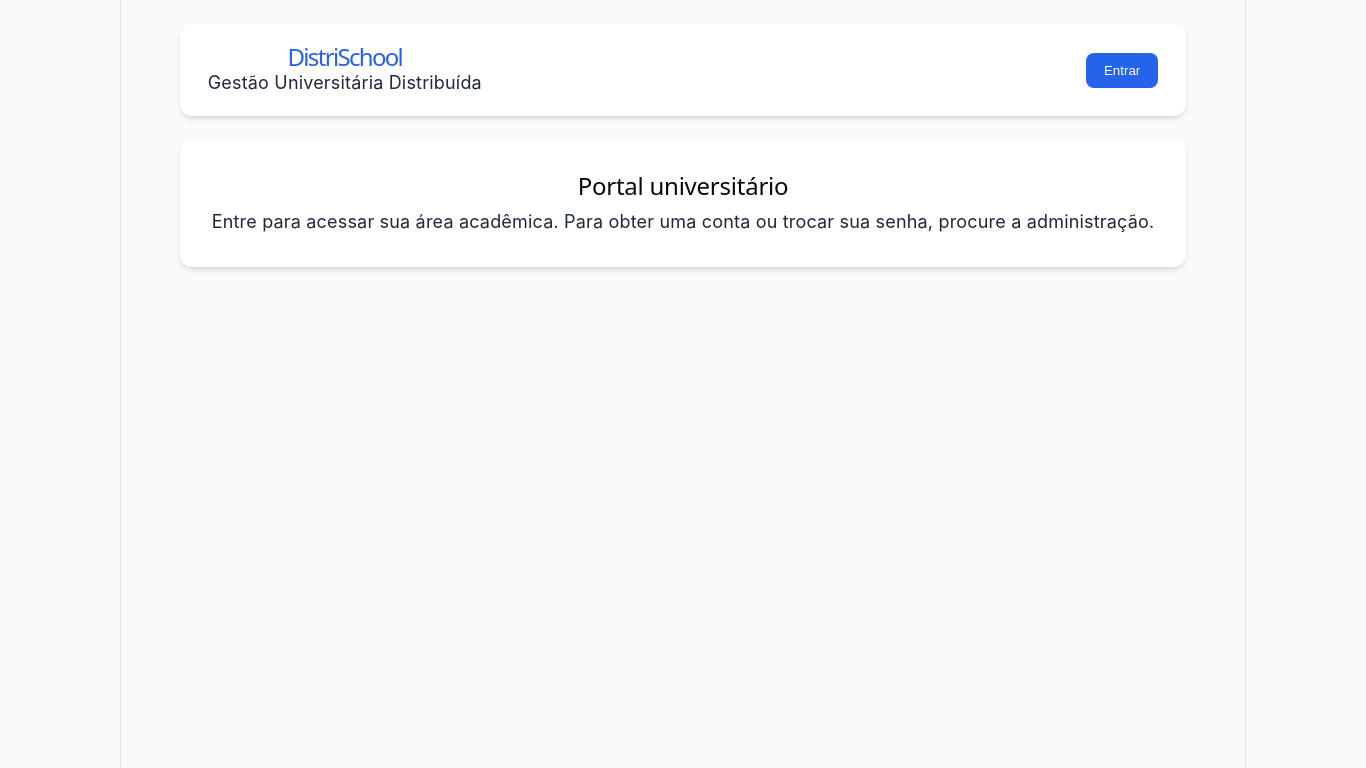
Test: Autenticação global › faz login, persiste a sessão e restaura ao remontar
Later steps or results of the test are not shown.
Click the button "Entrar" at (1122, 70), box top-left (1086, 53), bottom-right (1158, 88)
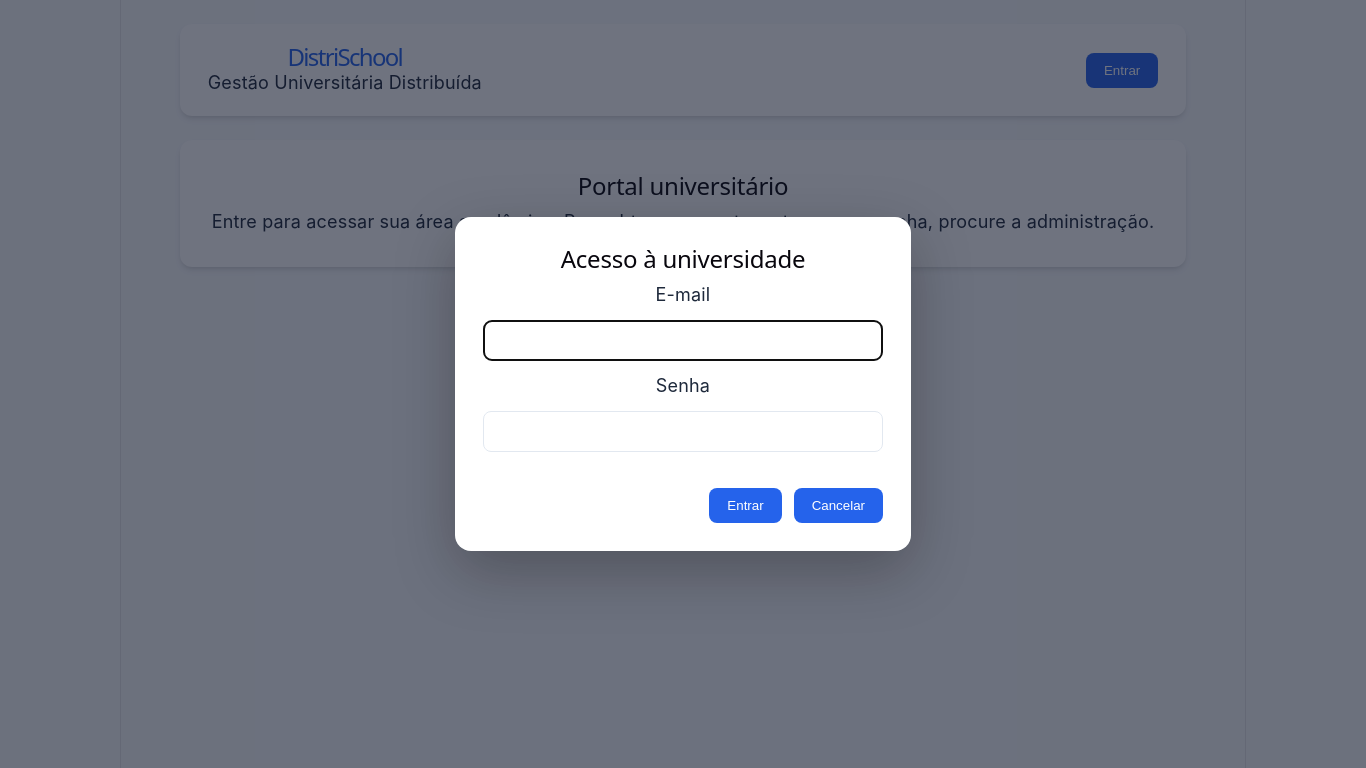
Type "ana@universidade.edu" into the field labelled "E-mail" at (683, 340), box top-left (483, 320), bottom-right (883, 361)
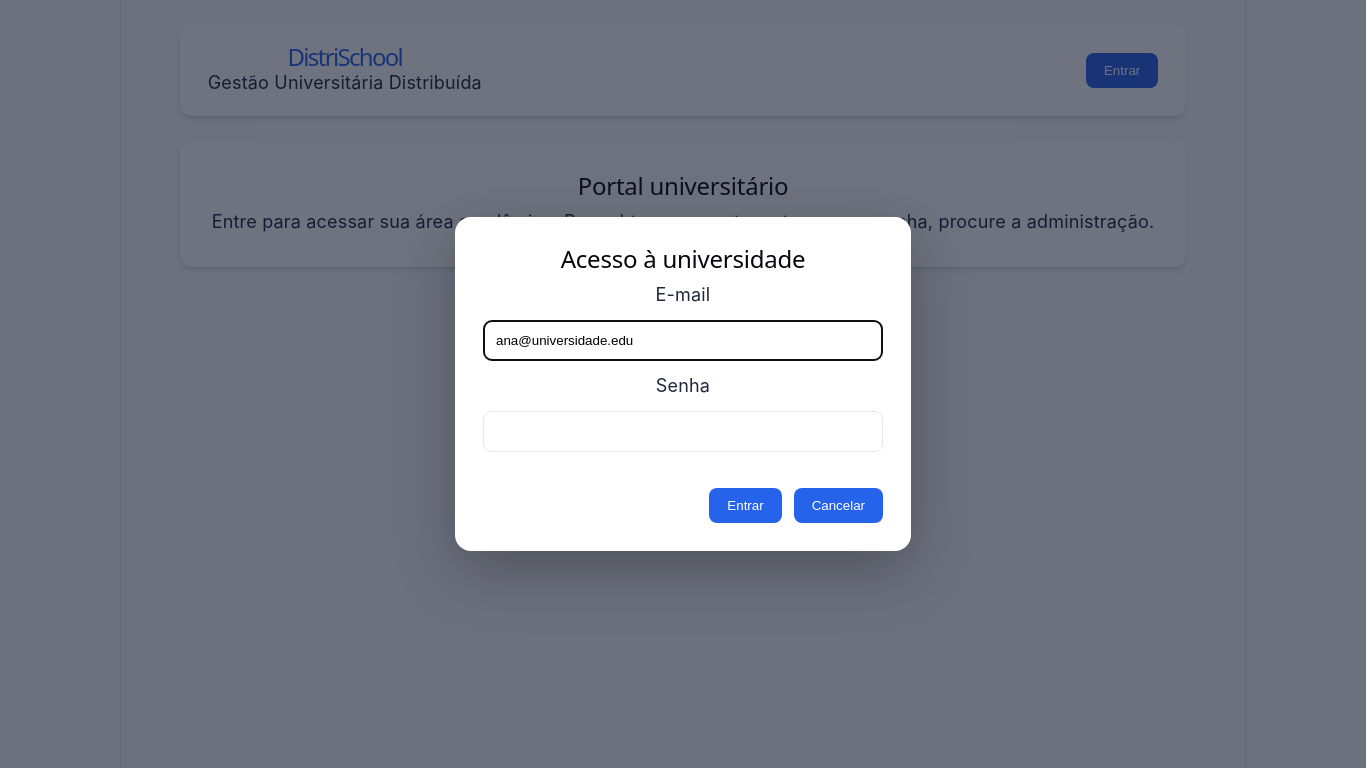
Type "Universidade123!" into the password field labelled "Senha" at (683, 431), box top-left (483, 411), bottom-right (883, 452)
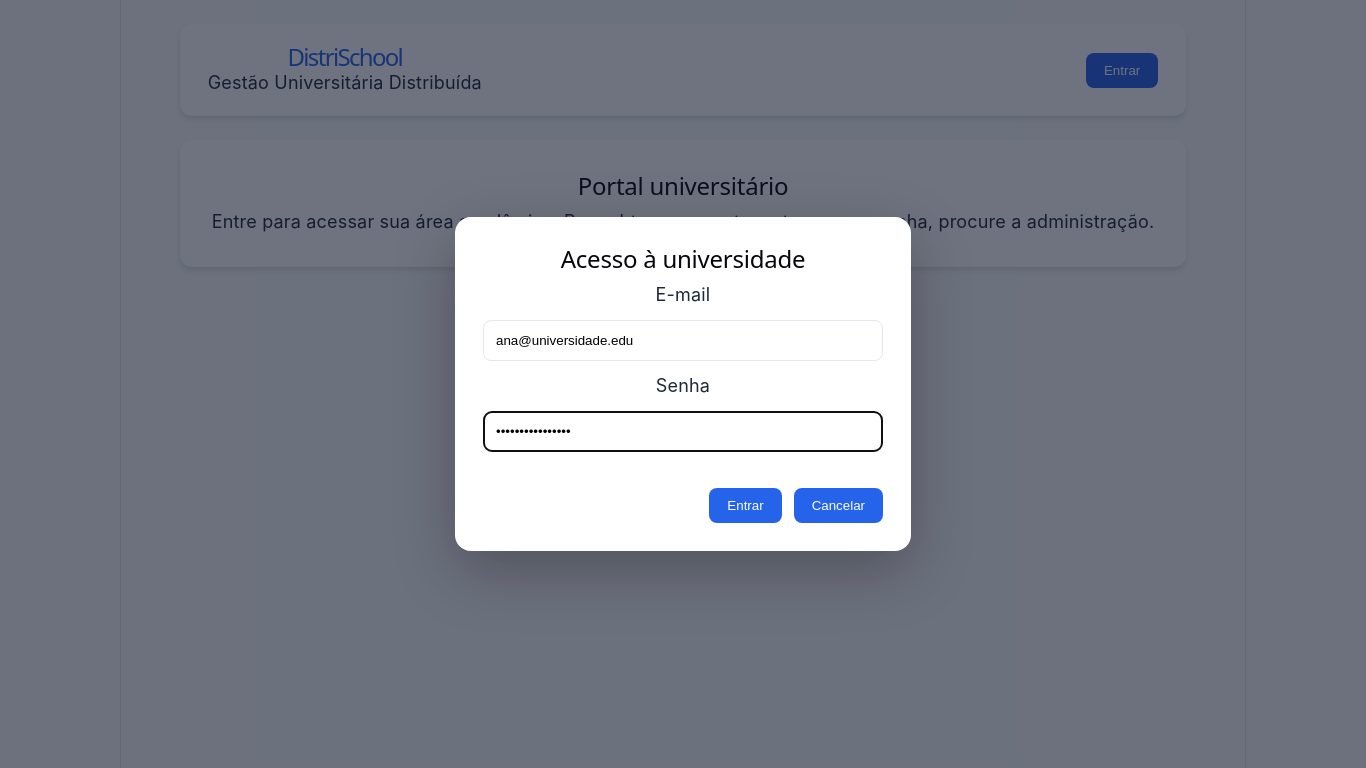
Click the button "Entrar" at (746, 505), box top-left (709, 488), bottom-right (782, 523)
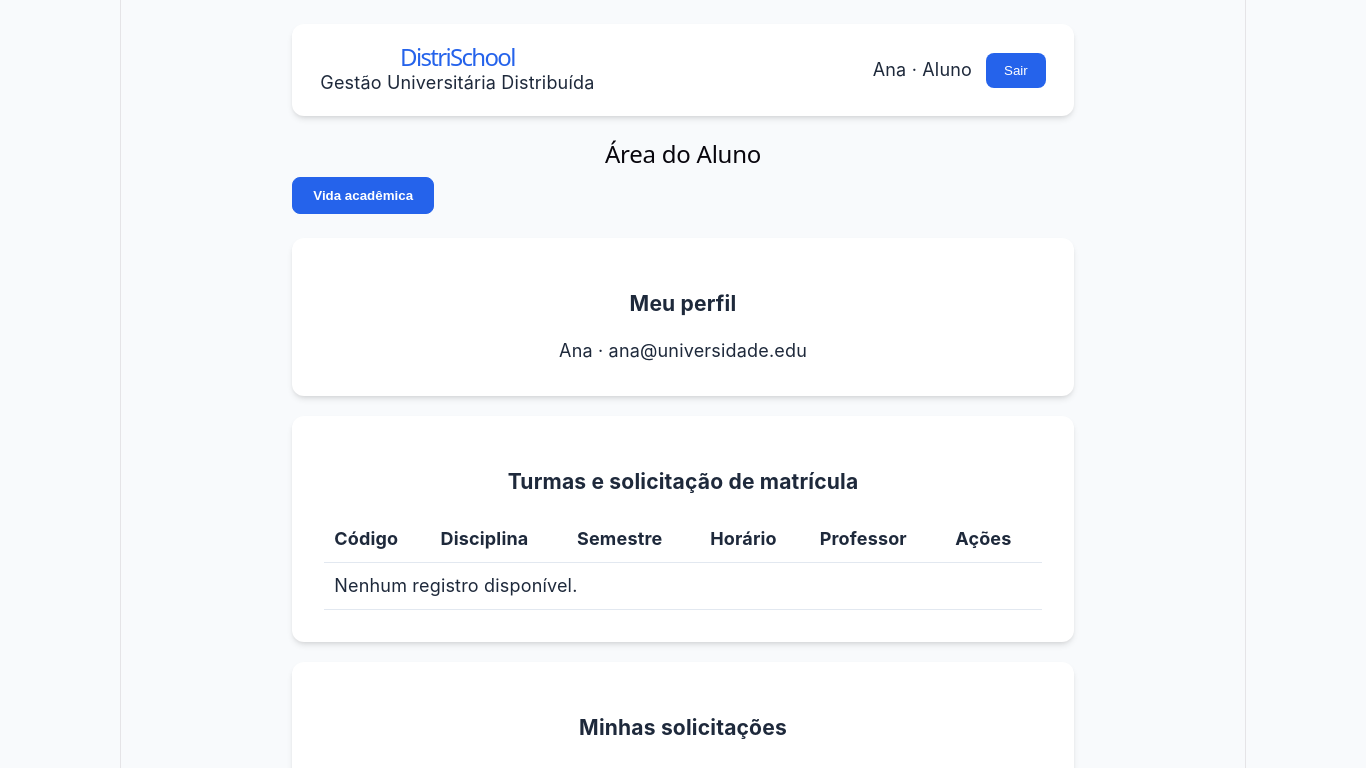
Check: the text "Ana · Aluno" is shown, box top-left (873, 57), bottom-right (972, 83)
